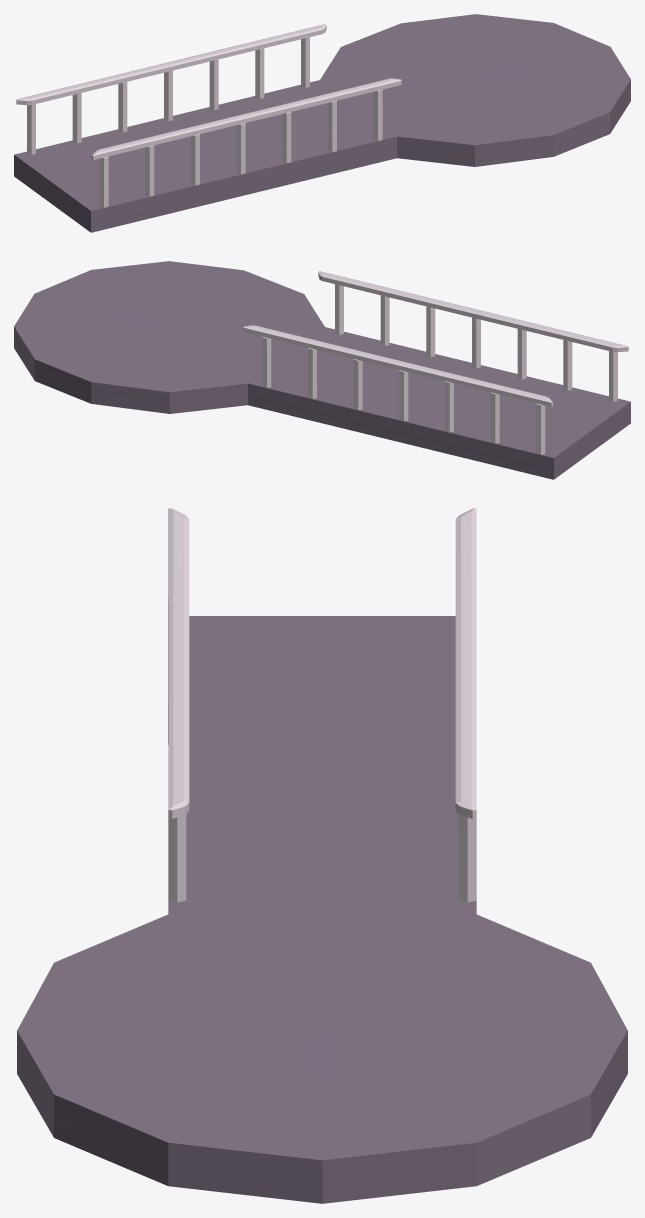
Rendered from lvlGOD_end.glb.
3 views of the same model, one above another, from view 1: azimuth 30°, elevation 25°; view 2: azimuth 150°, elevation 25°; view 3: azimuth 270°, elevation 25° (orthographic). The views are drawn at different scales.
Visible parts, largest first — view 1: lvlGOD_END; view 2: lvlGOD_END; view 3: lvlGOD_END.
Part boxes in pixels (left/top/right/bottom): lvlGOD_END: left=14, top=14, right=630, bottom=232; lvlGOD_END: left=14, top=261, right=630, bottom=479; lvlGOD_END: left=17, top=508, right=627, bottom=1203.
Bounding box in the file's own units: 136 × 17.91 × 64.24.
1 material, 1 textured.
